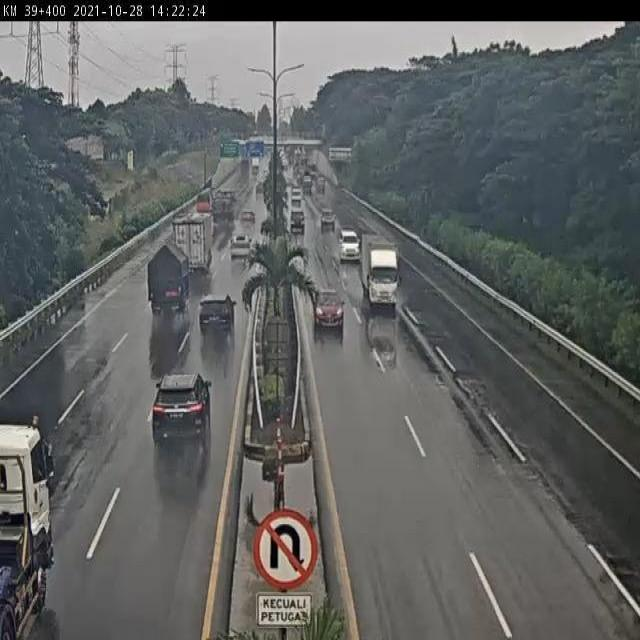car: (195, 292, 237, 344), (337, 229, 361, 264), (227, 231, 251, 264)
truck-l-: (170, 213, 214, 279)
truck-m-: (145, 244, 192, 319)
truck-s-: (358, 233, 401, 308)
